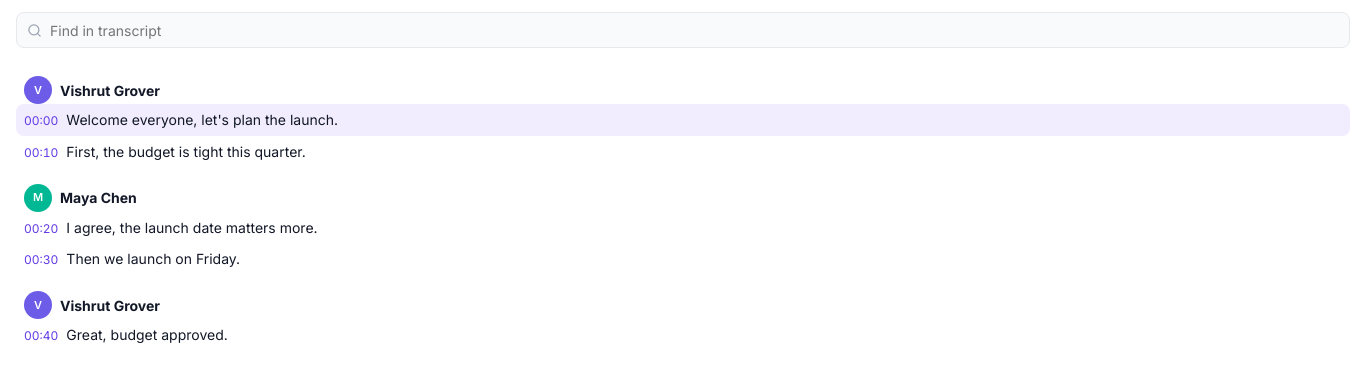
Test: TranscriptPanel › find › steps through matches with the buttons and Enter, wrapping around
The width and height of the screenshot is (1366, 368).
Check: the button "00:00Welcome everyone, let's plan the launch." is shown, box [16, 104, 1350, 136]
Step 1. Type "budget" into the field labelled "Find in transcript" → (694, 30), box [48, 18, 1339, 42]
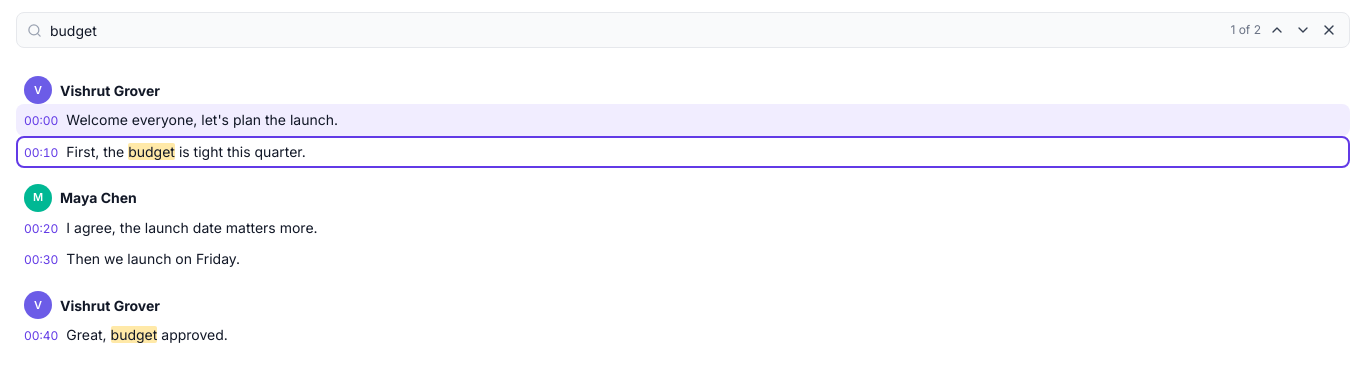
Check: the text "1 of 2" is shown, box [1230, 21, 1261, 39]
Step 2. Click the button named "Next match" → (1303, 30), box [1293, 20, 1313, 40]
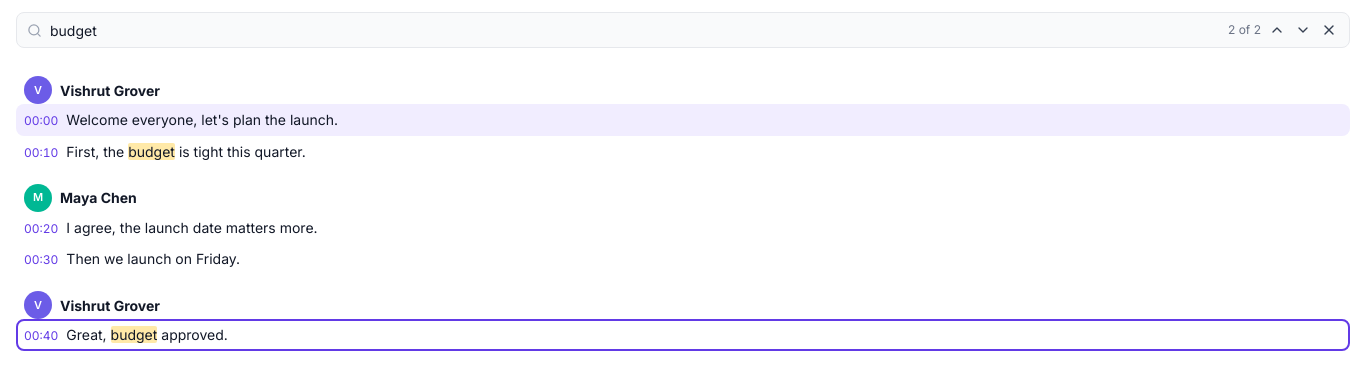
Check: the text "2 of 2" is shown, box [1228, 21, 1261, 39]
Step 3. Press Enter in the field named "Find in transcript", box [48, 18, 1222, 42]
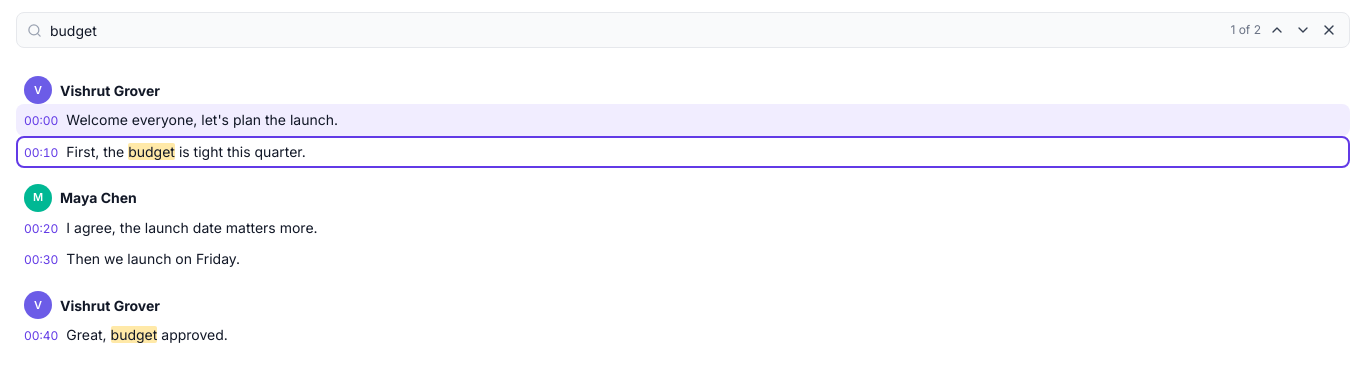
Check: the text "1 of 2" is shown, box [1230, 21, 1261, 39]
Step 4. Press Enter in the field named "Find in transcript", box [48, 18, 1224, 42]
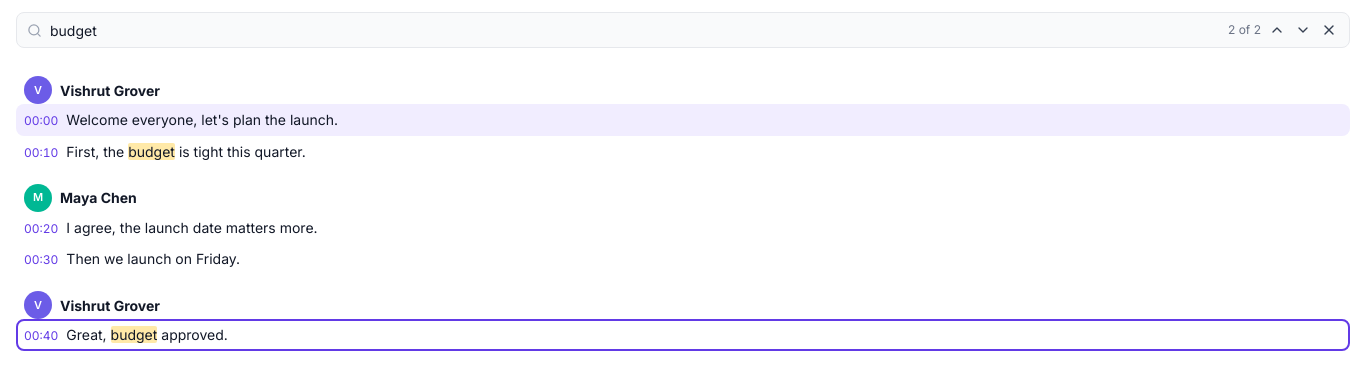
Check: the text "2 of 2" is shown, box [1228, 21, 1261, 39]
Step 5. Click the button named "Previous match" → (1277, 30), box [1267, 20, 1287, 40]
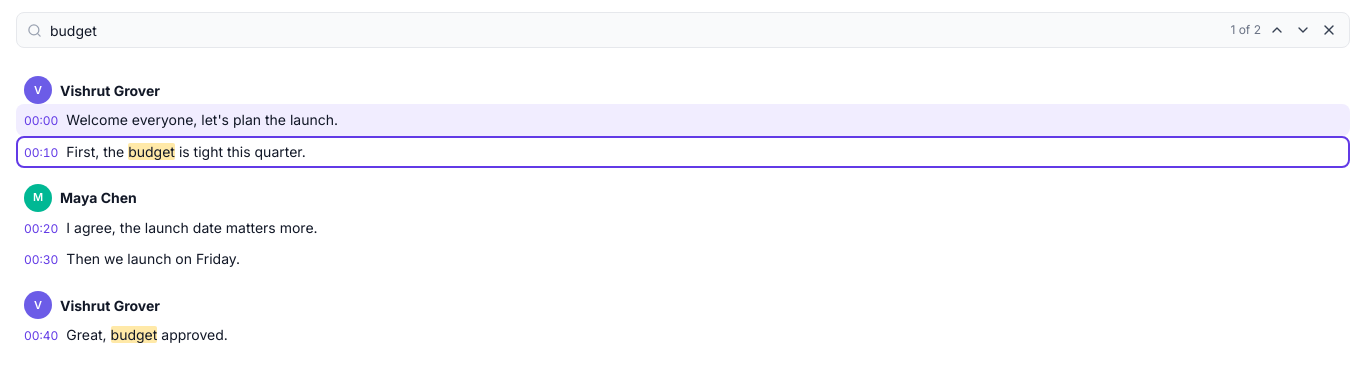
Check: the text "1 of 2" is shown, box [1230, 21, 1261, 39]
